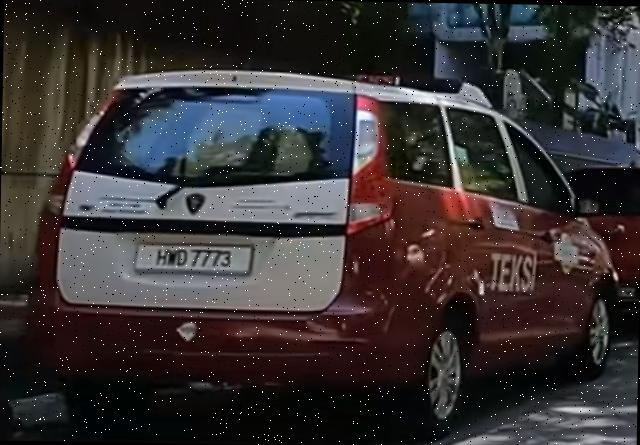License_Plate: (133, 242, 254, 276)
car: (23, 64, 625, 439)
